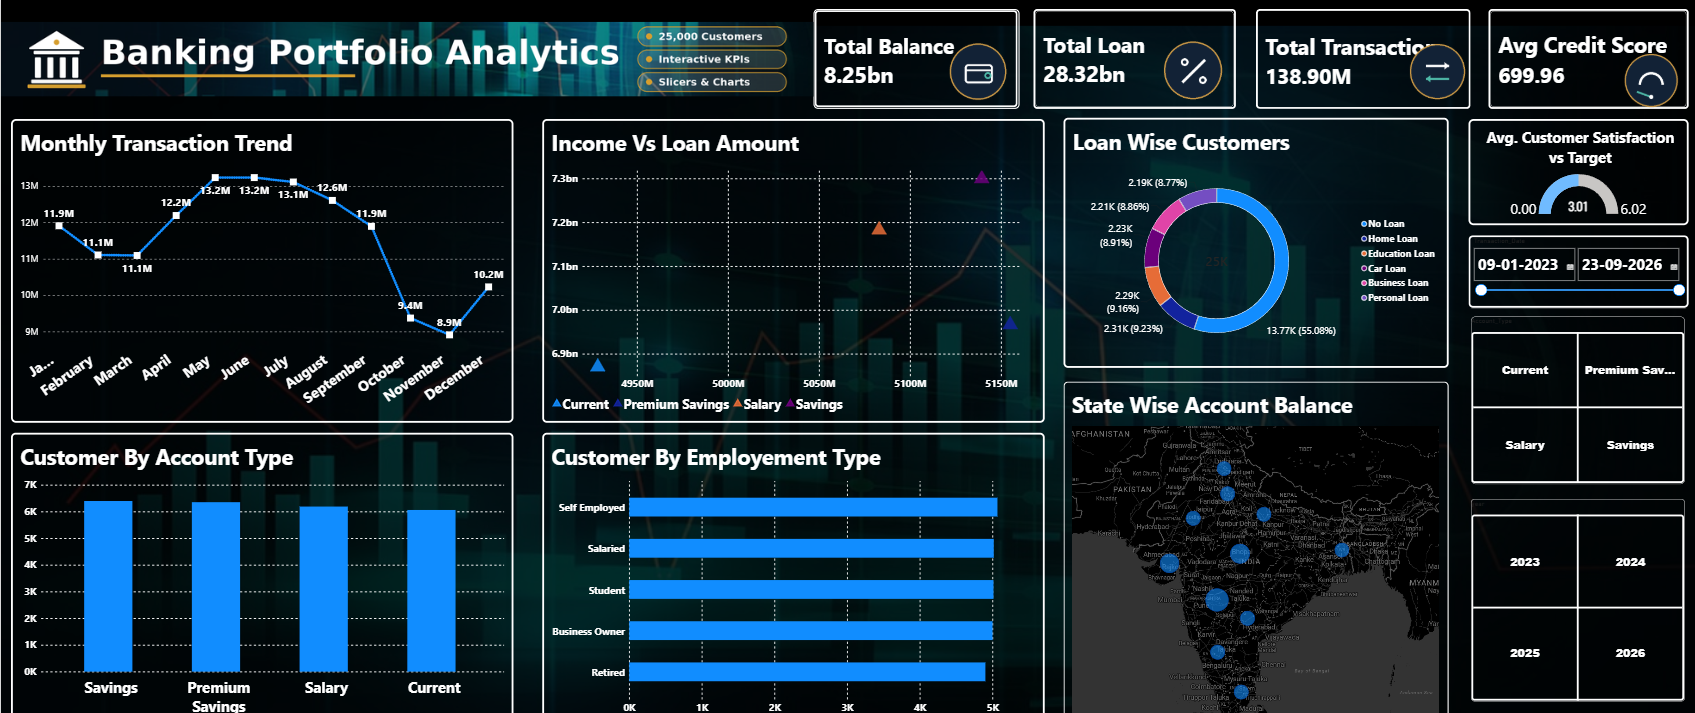

The page's visual inventory and layout, read from the dashboard file:
{"tool":"powerbi","page":{"name":"Page 2","canvas":[3840,2160],"ordinal":1},"visuals":[{"type":"gauge","title":"Avg. Customer Satisfaction vs Target","fields":{"Y":["Avg(banking_powerbi_dataset_25000.Customer_Satisfaction)"]},"box":[3173,259.5,475.7,229.7],"z":0},{"type":"columnChart","title":"Customer By Account Type","fields":{"Category":["banking_powerbi_dataset_25000.Account_Type"],"Y":["CountNonNull(banking_powerbi_dataset_25000.Customer_ID)"]},"box":[21.6,937.8,1086.5,635.1],"z":1000},{"type":"lineChart","title":"Monthly Transaction Trend","fields":{"Category":["banking_powerbi_dataset_25000.Transaction_Date.Variation.Date Hierarchy.Month"],"Y":["Sum(banking_powerbi_dataset_25000.Transaction_Amount)"]},"box":[21.6,259.5,1086.5,656.8],"z":2000},{"type":"clusteredBarChart","title":"Customer By Employement Type","fields":{"Category":["banking_powerbi_dataset_25000.Employment_Type"],"Y":["CountNonNull(banking_powerbi_dataset_25000.Customer_ID)"]},"box":[1170.3,937.8,1086.1,633.3],"z":3000},{"type":"scatterChart","title":"Income Vs Loan Amount","fields":{"Series":["banking_powerbi_dataset_25000.Account_Type"],"X":["Sum(banking_powerbi_dataset_25000.Annual_Income)"],"Y":["Sum(banking_powerbi_dataset_25000.Loan_Amount)"]},"box":[1170.3,259.5,1086.5,656.8],"z":4000},{"type":"donutChart","title":"Loan Wise Customers","fields":{"Category":["banking_powerbi_dataset_25000.Loan_Type"],"Y":["CountNonNull(banking_powerbi_dataset_25000.Customer_ID)"]},"box":[2297.3,256.8,832.4,540.5],"z":5000},{"type":"map","title":"State Wise Account Balance","fields":{"Category":["banking_powerbi_dataset_25000.State"],"Size":["Sum(banking_powerbi_dataset_25000.Account_Balance)"]},"box":[2297.3,827,832.4,783.8],"z":6000},{"type":"image","box":[0,0,447.2,255.6],"z":7000},{"type":"image","box":[3237.8,0,581.1,256.8],"z":8000},{"type":"cardVisual","fields":{"Data":["banking_powerbi_dataset_25000.Total_Account_Balance"]},"box":[467.6,21.6,445.9,216.2],"z":9000},{"type":"cardVisual","fields":{"Data":["banking_powerbi_dataset_25000.Total_Loan_Distributed"]},"box":[986.5,21.6,437.8,216.2],"z":10000},{"type":"cardVisual","fields":{"Data":["banking_powerbi_dataset_25000.Total_Transaction_Amount"]},"box":[2256.8,21.6,521.6,216.2],"z":11000},{"type":"slicer","fields":{"Values":["banking_powerbi_dataset_25000.Transaction_Date"]},"box":[3173,510.8,475.7,156.8],"z":12000},{"type":"advancedSlicerVisual","fields":{"Values":["banking_powerbi_dataset_25000.Account_Type"]},"box":[3178.4,686.5,462.2,362.2],"z":13000},{"type":"image","box":[1132.4,0,1435.1,259.5],"z":14000},{"type":"cardVisual","fields":{"Data":["banking_powerbi_dataset_25000.Avg Credit Score"]},"box":[2829.7,18.9,432.4,216.2],"z":15000},{"type":"advancedSlicerVisual","fields":{"Values":["banking_powerbi_dataset_25000.year"]},"box":[3178.4,1081.1,462.2,437.8],"z":15002},{"type":"image","box":[764.9,89.2,127,129.7],"z":15003},{"type":"image","box":[1237.8,89.2,186.5,129.7],"z":15004},{"type":"image","box":[2616.2,102.7,143.2,124.3],"z":15005},{"type":"image","box":[3091.9,108.1,145.9,118.9],"z":15006}]}

Visuals, with their boxes on the page's 3840x2160 design canvas (x1, y1, x2, y2). These are canvas units, not pixel positions in the 1695x713 screenshot, which may show the page scaled, cropped or inside an application window:
"Avg. Customer Satisfaction vs Target" gauge: [x1=3173, y1=260, x2=3649, y2=489]
"Customer By Account Type" columnChart: [x1=22, y1=938, x2=1108, y2=1573]
"Monthly Transaction Trend" lineChart: [x1=22, y1=260, x2=1108, y2=916]
"Customer By Employement Type" clusteredBarChart: [x1=1170, y1=938, x2=2256, y2=1571]
"Income Vs Loan Amount" scatterChart: [x1=1170, y1=260, x2=2257, y2=916]
"Loan Wise Customers" donutChart: [x1=2297, y1=257, x2=3130, y2=797]
"State Wise Account Balance" map: [x1=2297, y1=827, x2=3130, y2=1611]
image: [x1=0, y1=0, x2=447, y2=256]
image: [x1=3238, y1=0, x2=3819, y2=257]
cardVisual - banking_powerbi_dataset_25000.Total_Account_Balance: [x1=468, y1=22, x2=914, y2=238]
cardVisual - banking_powerbi_dataset_25000.Total_Loan_Distributed: [x1=986, y1=22, x2=1424, y2=238]
cardVisual - banking_powerbi_dataset_25000.Total_Transaction_Amount: [x1=2257, y1=22, x2=2778, y2=238]
slicer - banking_powerbi_dataset_25000.Transaction_Date: [x1=3173, y1=511, x2=3649, y2=668]
advancedSlicerVisual - banking_powerbi_dataset_25000.Account_Type: [x1=3178, y1=686, x2=3641, y2=1049]
image: [x1=1132, y1=0, x2=2568, y2=260]
cardVisual - banking_powerbi_dataset_25000.Avg Credit Score: [x1=2830, y1=19, x2=3262, y2=235]
advancedSlicerVisual - banking_powerbi_dataset_25000.year: [x1=3178, y1=1081, x2=3641, y2=1519]
image: [x1=765, y1=89, x2=892, y2=219]
image: [x1=1238, y1=89, x2=1424, y2=219]
image: [x1=2616, y1=103, x2=2759, y2=227]
image: [x1=3092, y1=108, x2=3238, y2=227]
